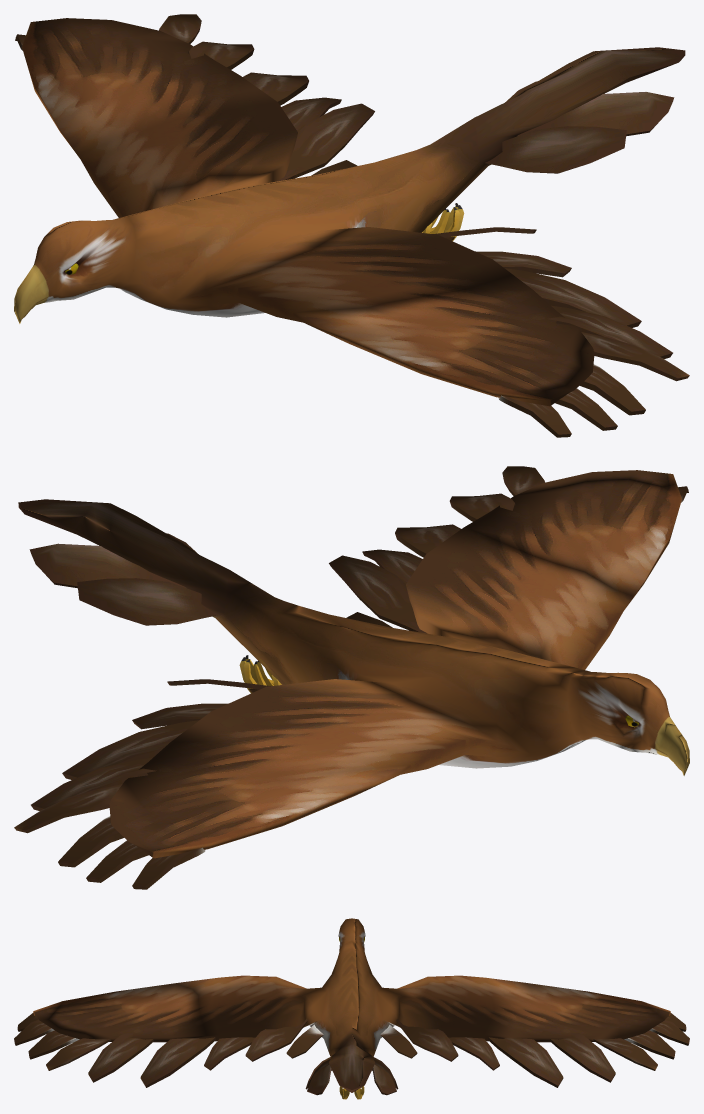
File: bird.glb
3 renders of one model, top to bottom at view 1: azimuth 30°, elevation 25°; view 2: azimuth 150°, elevation 25°; view 3: azimuth 270°, elevation 25°, orthographic. The views are drawn at different scales.
Parts seen in each view (by area): view 1: node_id30; view 2: node_id30; view 3: node_id30.
Part boxes in pixels (x1,y1,x2,y2): node_id30: [14, 14, 689, 437]; node_id30: [14, 466, 689, 889]; node_id30: [14, 918, 689, 1099].
Size of the model in its own units: 0.3605 by 0.092 by 0.512.
Materials: 1 (1 with a texture image).
